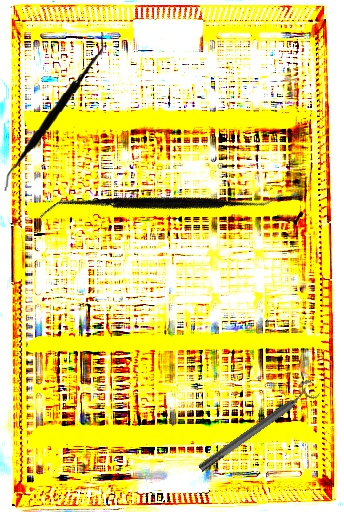Fixation Ring: (193, 377, 322, 478)
Spatula Surgical: (39, 96, 285, 315), (4, 27, 104, 196)
